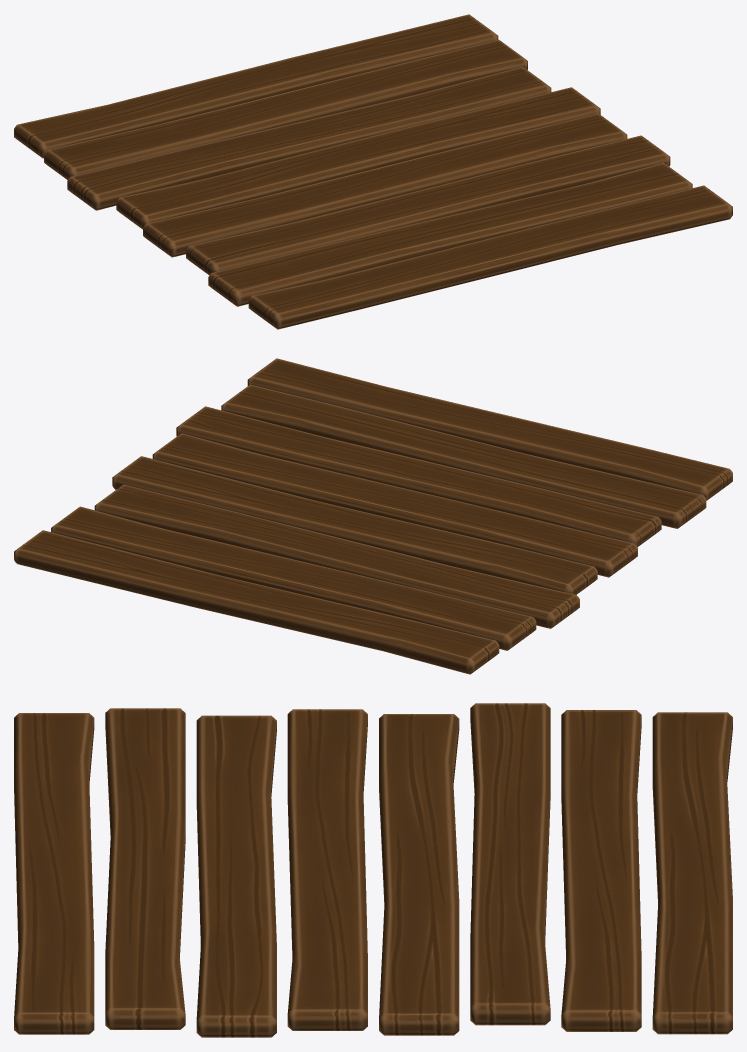
The model's file is planks.2.fbx.
3 views of the same model, one above another, from view 1: azimuth 30°, elevation 25°; view 2: azimuth 150°, elevation 25°; view 3: azimuth 270°, elevation 25° (orthographic). The views are drawn at different scales.
Visible parts, largest first — view 1: Planks.2; view 2: Planks.2; view 3: Planks.2.
Boxes of the visible parts, x1,y1,x2,y2 form: Planks.2: (14,14,732,329); Planks.2: (14,358,732,674); Planks.2: (14,703,732,1037).
Bounding box in the file's own units: 206 × 6.26 × 197.
